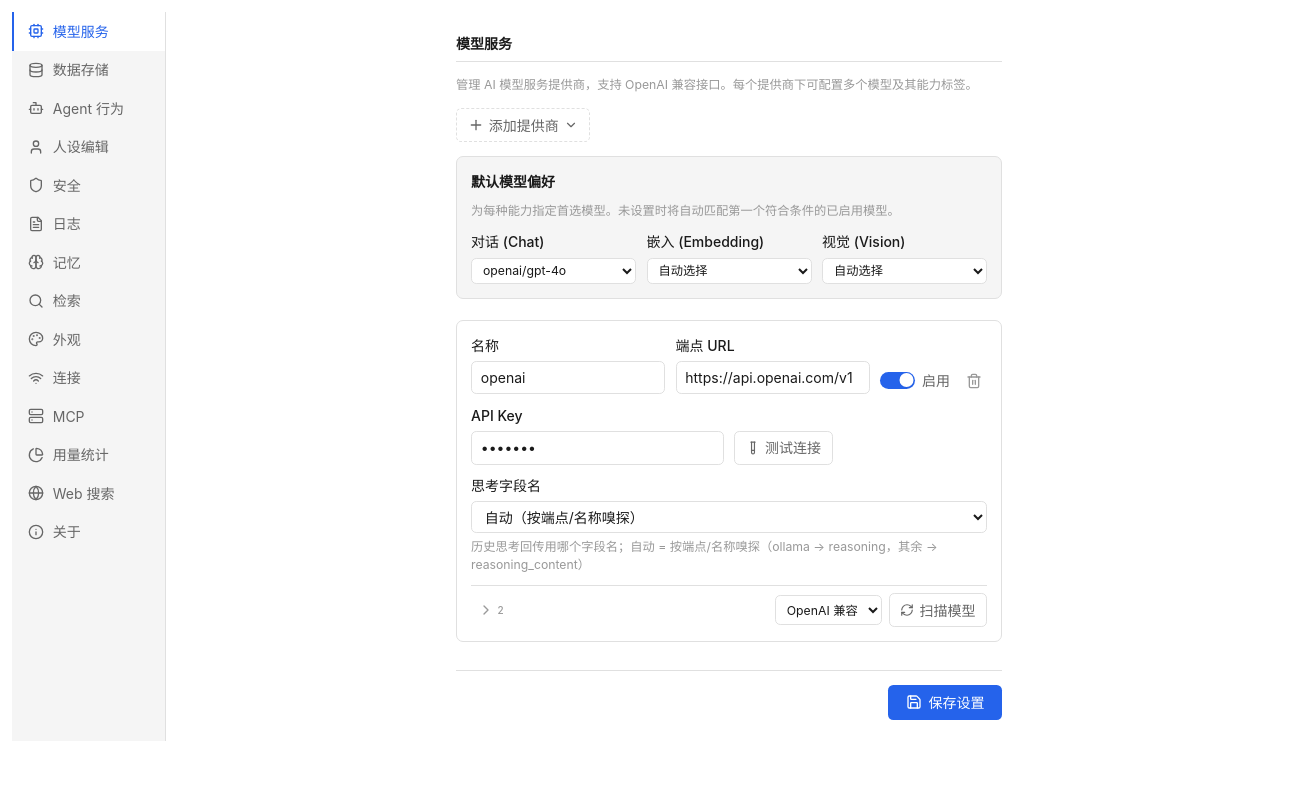
Test: SettingsPanel tabs › shows the runtime version from /health on the About tab (was hardcoded 0.1.0)
Expected: the heading "默认模型偏好" is shown, [471,173,555,190]
Click the tab "关于" at (88, 532), box [12,512,165,551]
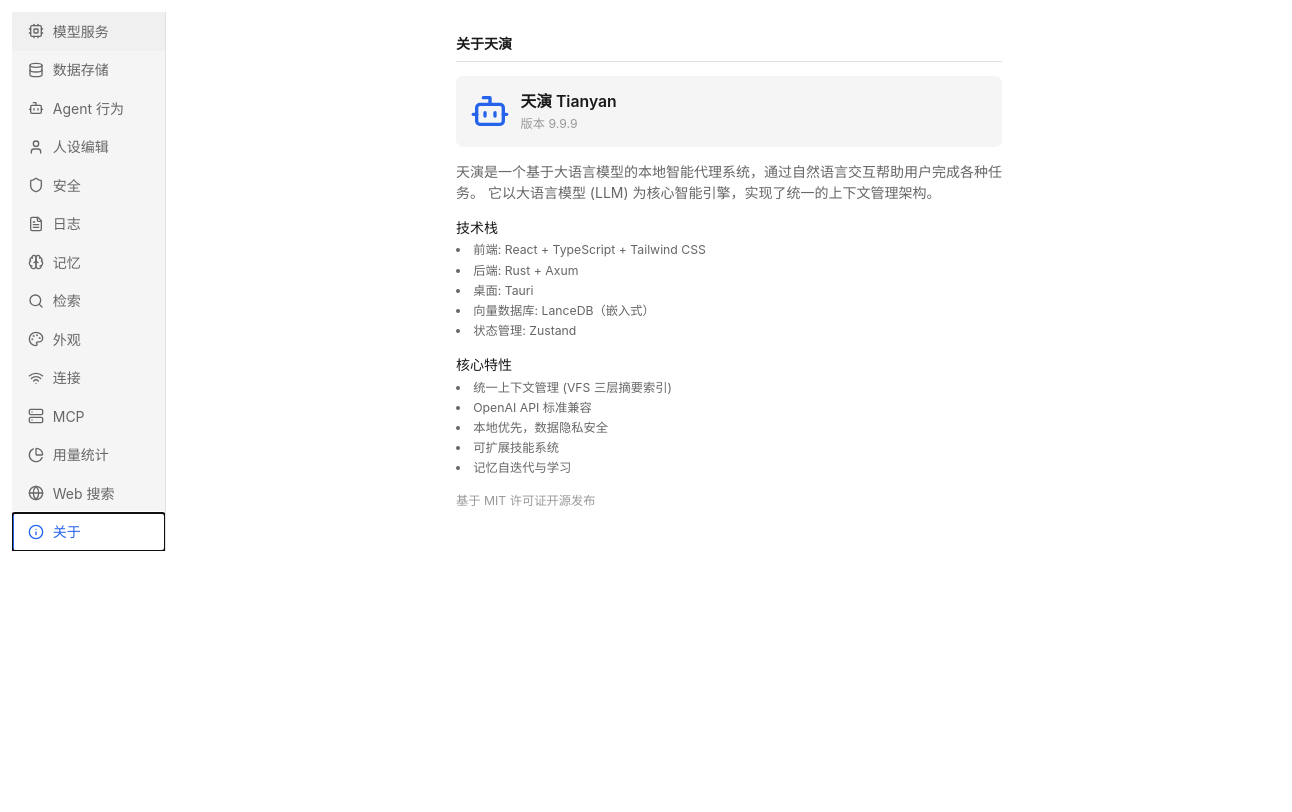
Now the text "版本 9.9.9" is shown, box [520,116,578,130]
